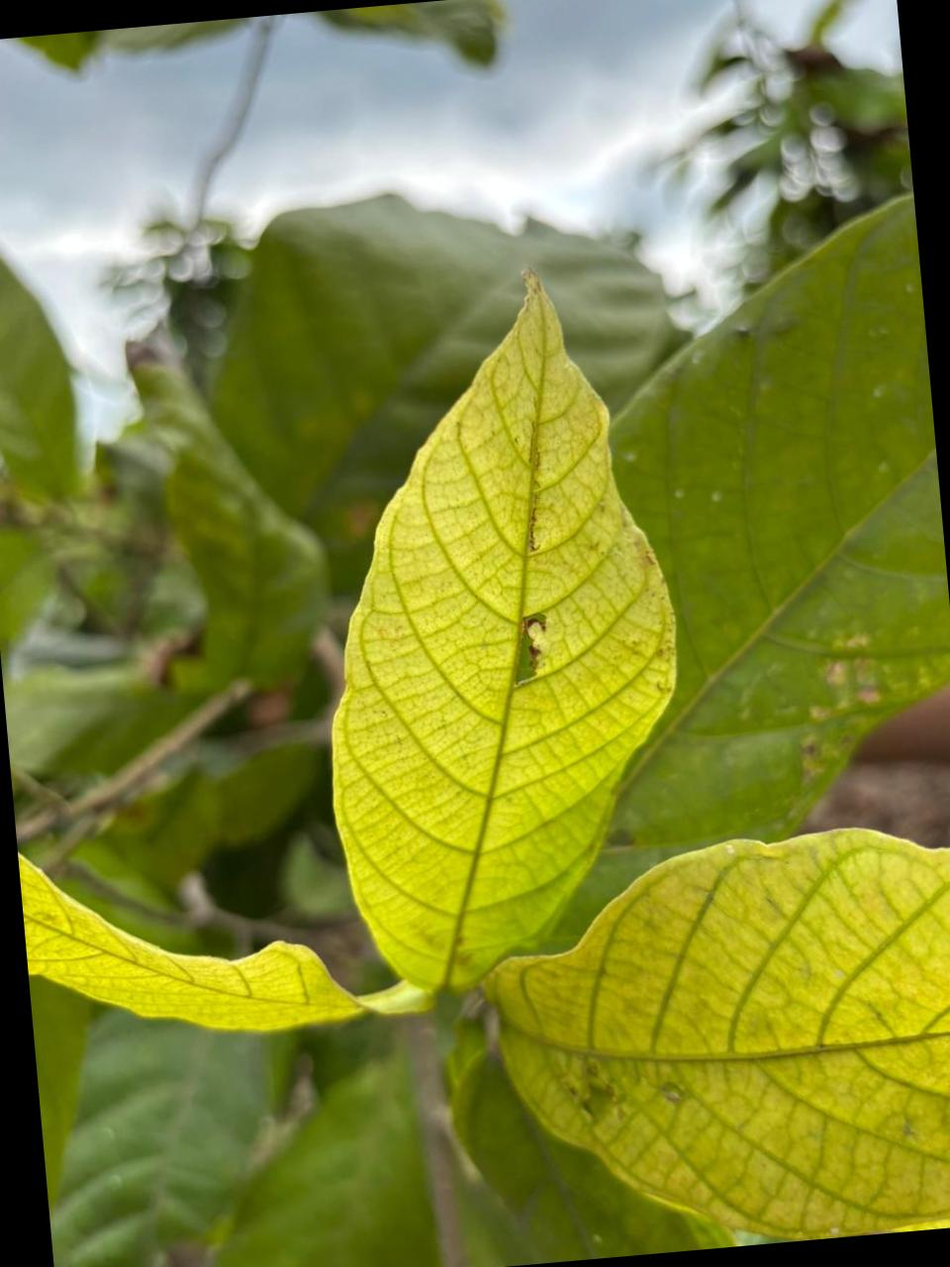Nitrogeno: (333, 276, 674, 991), (486, 830, 950, 1240), (18, 854, 425, 1031)
